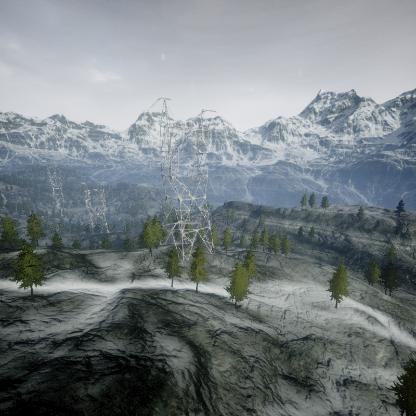tower: (148, 97, 220, 265), (81, 180, 110, 235)
